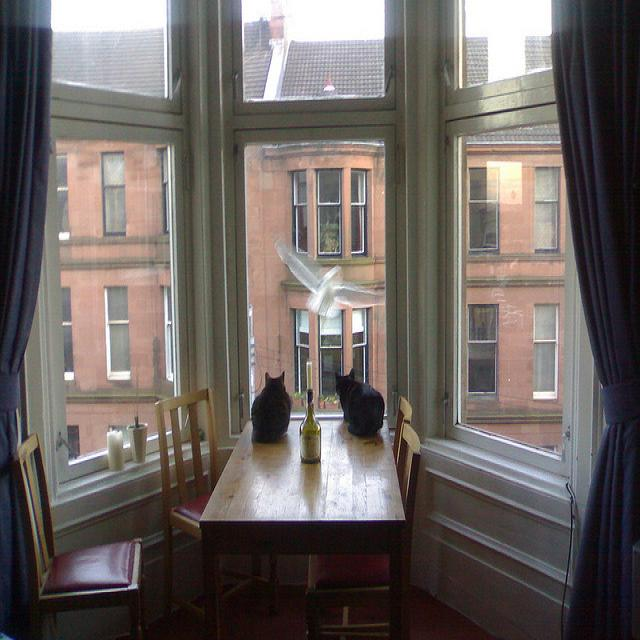chair: (12, 433, 144, 633), (306, 426, 419, 629), (154, 386, 220, 619), (392, 394, 411, 464)
dining table: (199, 408, 412, 640)
